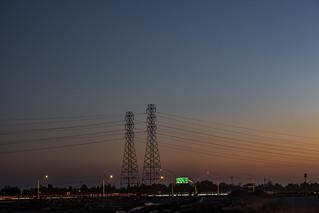power_tower: (140, 103, 164, 186), (121, 109, 141, 189)
